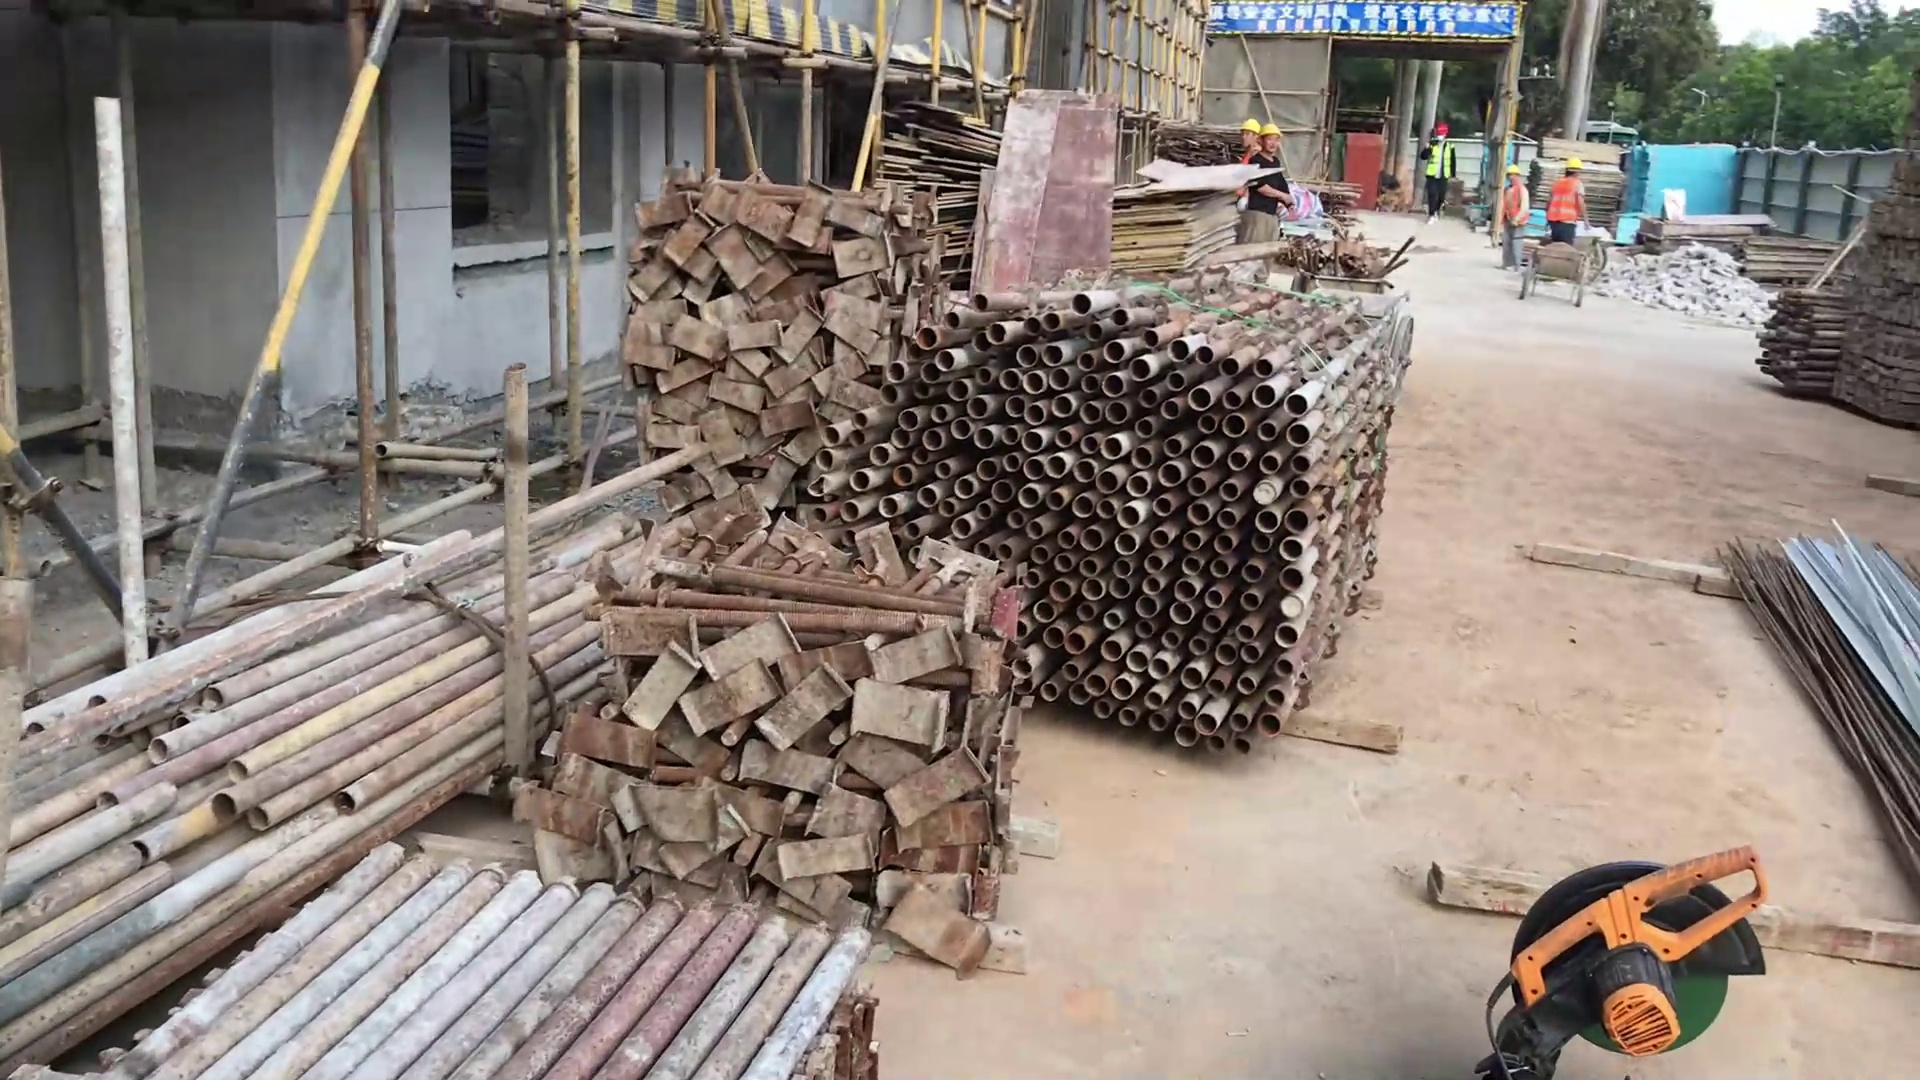board: (1096, 157, 1257, 286)
cutter: (1453, 828, 1786, 1080)
handcart: (1513, 237, 1595, 309)
helmet: (1257, 120, 1287, 141), (1238, 112, 1262, 137), (1562, 152, 1585, 175), (1432, 119, 1450, 138), (1502, 162, 1522, 180)
person: (1245, 121, 1299, 223), (1493, 159, 1536, 277), (1546, 152, 1595, 253), (1419, 118, 1461, 226), (1237, 113, 1264, 171)
scaffold: (865, 269, 1426, 747), (78, 838, 862, 1080)
slogan: (1207, 1, 1523, 49)
vest: (1548, 175, 1588, 227), (1501, 180, 1531, 227), (1423, 140, 1455, 181)
wood: (1815, 97, 1920, 450)
